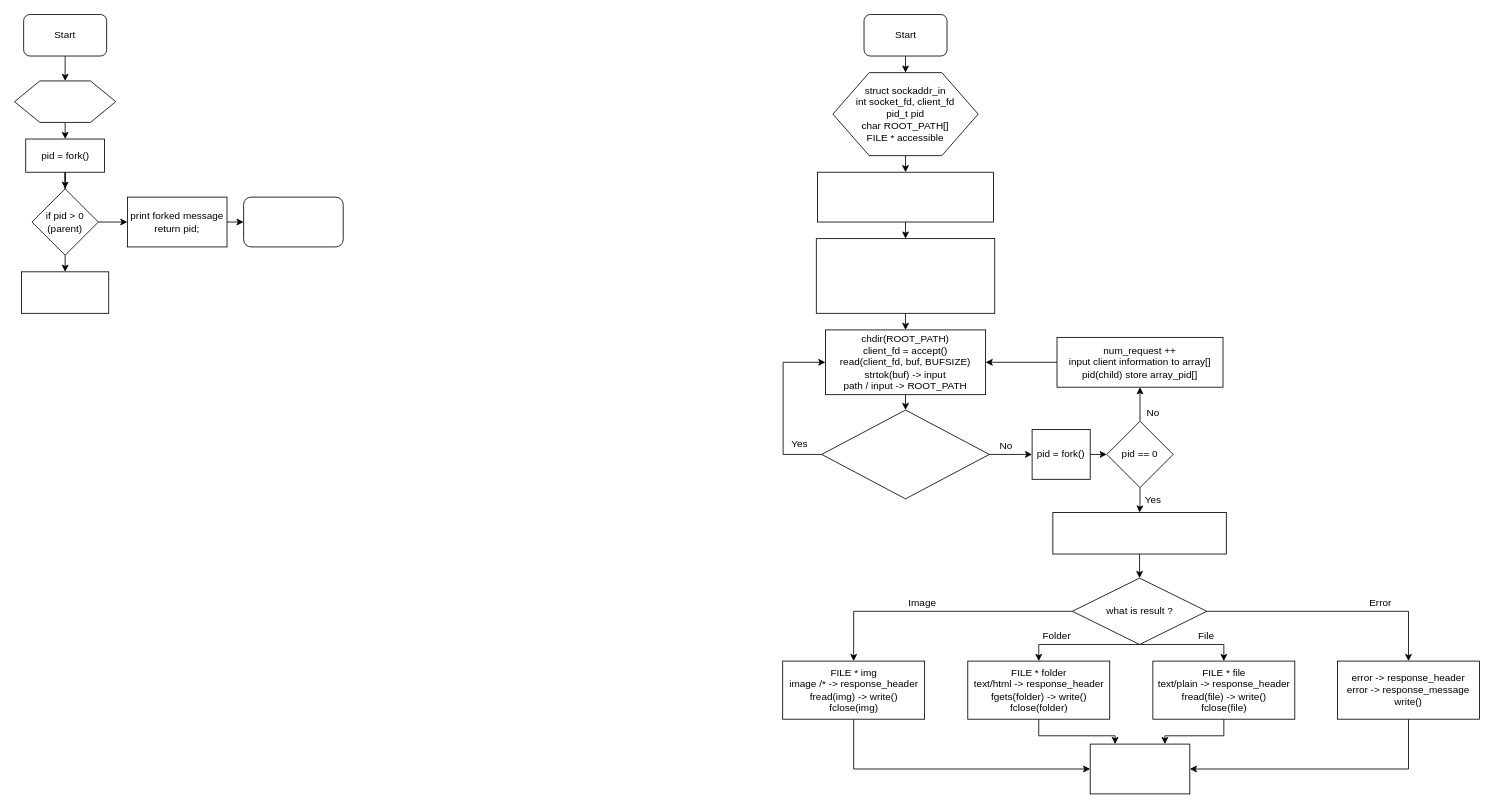
Image size: 1494x808. Some labels were removed from this diagram. Each missing label, with the centre of its shape:
child_main(): the point at 65,292
End: the point at 293,221
get ip address that allow connection from "accessible.usr": the point at 905,196
getcwd(ROOT_PATH, BUFSIZE) Make socket alarm(10) SIGALRM, SIGINT, SIGTSTP handle: the point at 905,275
if Exception - favicon.. - denied ip.. - not GET method..: the point at 905,454
pid_t pid time_t t: the point at 65,101
Print connected result = html_ls(path, ROOT_PATH): the point at 1139,533
Print disconnect close(client_fd) exit(0): the point at 1139,768
